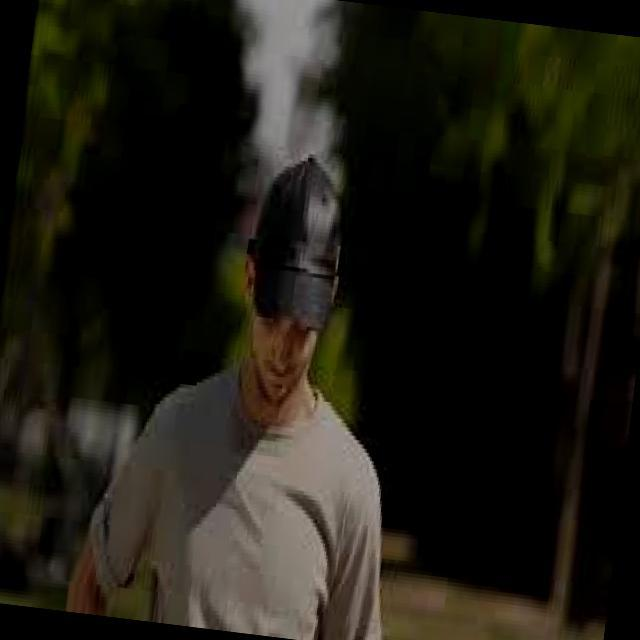cap: (233, 135, 367, 346)
